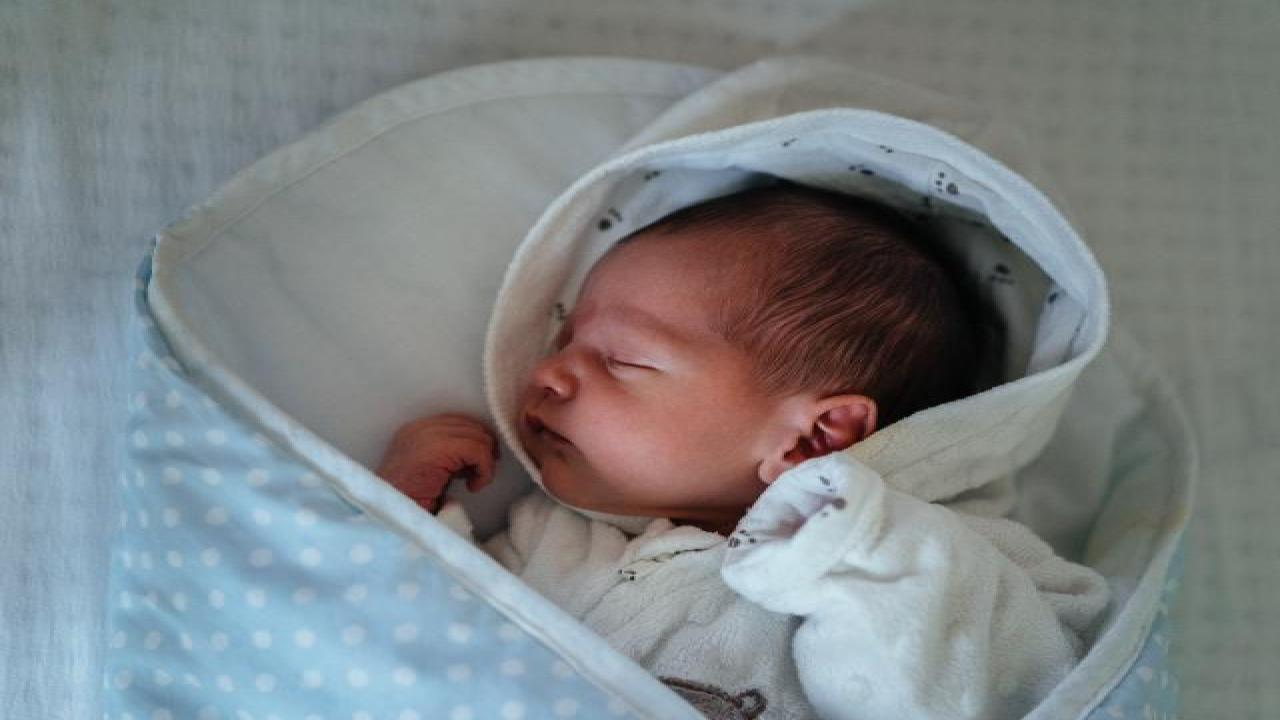hand: (385, 408, 500, 494)
